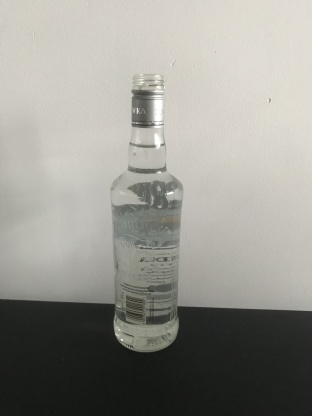nakretka: (129, 71, 166, 129)
